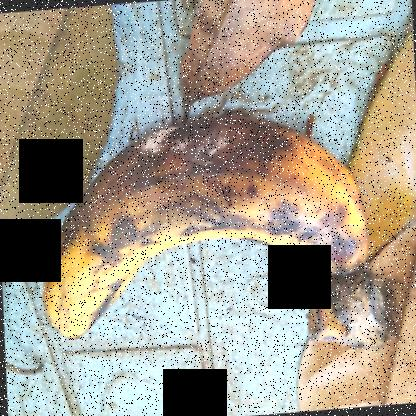rotten: (31, 87, 377, 348)
